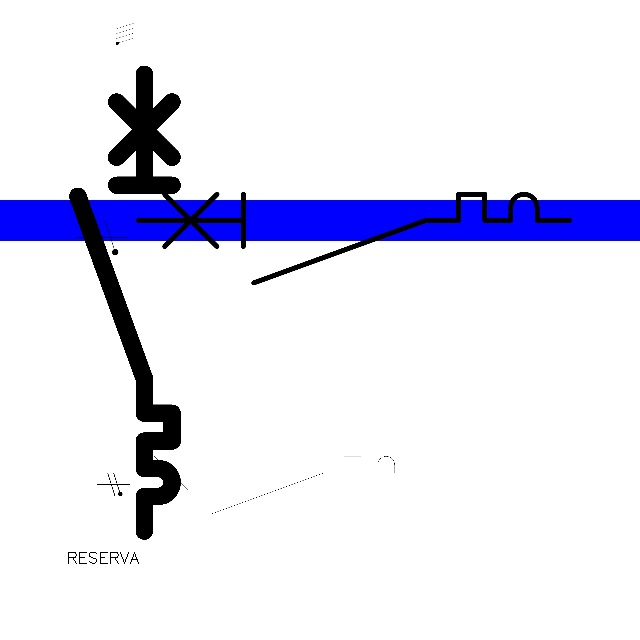interruptor_termomagnetico: (66, 62, 184, 542), (127, 183, 581, 294), (130, 449, 423, 520)
